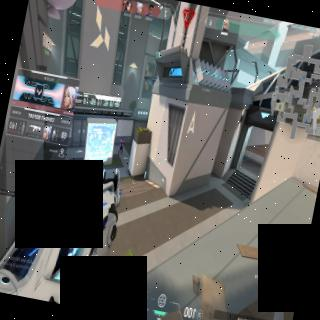ENEMY-BODY: (117, 136, 125, 156)
ENEMY-HEAD: (121, 136, 123, 140)
